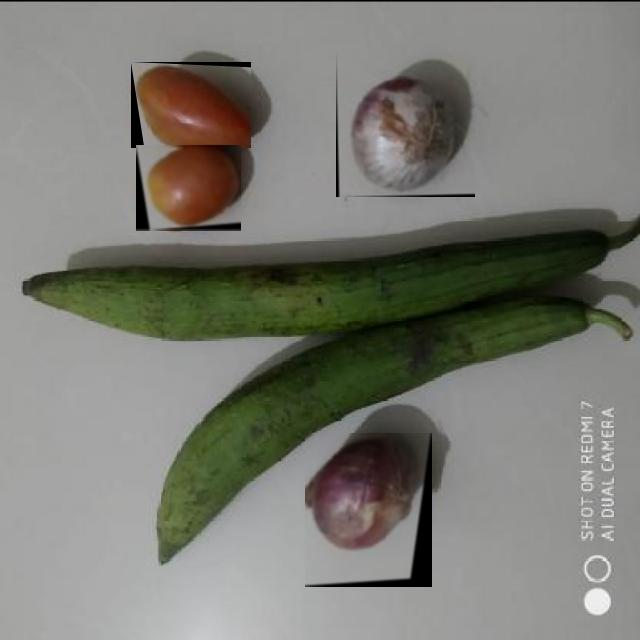onion: (336, 52, 475, 197), (305, 433, 432, 587)
tomato: (131, 63, 251, 148), (136, 146, 241, 232)
